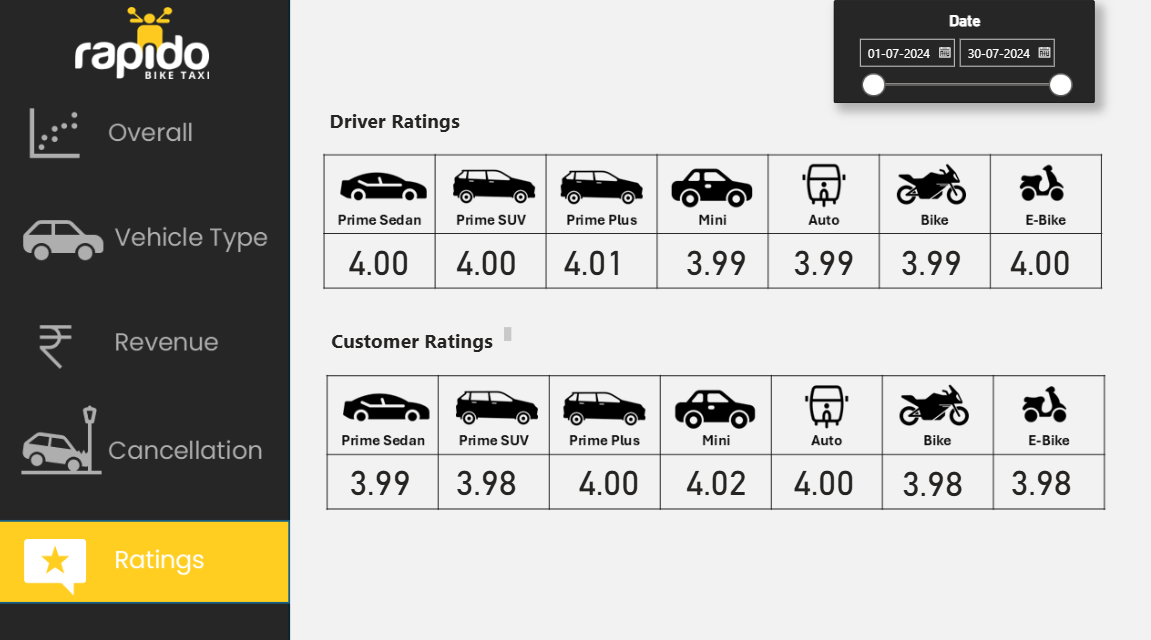

The dashboard page shown, as its layout file describes it:
{"tool":"powerbi","page":{"name":"Ratings","canvas":[1280,720],"ordinal":4},"visuals":[{"type":"actionButton","box":[0,218.9,326.1,97.1],"z":0},{"type":"actionButton","box":[0,335,326.1,97.1],"z":1000},{"type":"actionButton","box":[0,450,326.1,97.1],"z":2000},{"type":"actionButton","box":[0,575.1,326.1,97.1],"z":3000},{"type":"actionButton","box":[0,109.4,326.1,97.1],"z":4000},{"type":"card","fields":{"Values":["Avg(July.Driver_Ratings)"]},"box":[362.6,267.8,117.7,56.4],"z":5000},{"type":"card","fields":{"Values":["Avg(July.Driver_Ratings)"]},"box":[480.4,268,118.3,55.6],"z":6000},{"type":"card","fields":{"Values":["Avg(July.Driver_Ratings)"]},"box":[598.7,268,118.3,55.6],"z":7000},{"type":"card","fields":{"Values":["Avg(July.Driver_Ratings)"]},"box":[732.7,268,118.3,55.6],"z":8000},{"type":"card","fields":{"Values":["Avg(July.Driver_Ratings)"]},"box":[851,268,118.3,55.6],"z":9000},{"type":"card","fields":{"Values":["Avg(July.Driver_Ratings)"]},"box":[969.3,268,118.3,55.6],"z":10000},{"type":"card","fields":{"Values":["Avg(July.Driver_Ratings)"]},"box":[1087.6,268,118.3,55.6],"z":11000},{"type":"card","fields":{"Values":["Avg(July.Customer_Rating)"]},"box":[363.5,508.9,118.3,55.6],"z":12000},{"type":"card","fields":{"Values":["Avg(July.Customer_Rating)"]},"box":[480.4,508.9,118.3,55.6],"z":13000},{"type":"card","fields":{"Values":["Avg(July.Customer_Rating)"]},"box":[614.3,508.9,118.3,55.6],"z":14000},{"type":"card","fields":{"Values":["Avg(July.Customer_Rating)"]},"box":[732.7,508.9,118.3,55.6],"z":15000},{"type":"card","fields":{"Values":["Avg(July.Customer_Rating)"]},"box":[851,508.9,118.3,55.6],"z":16000},{"type":"card","fields":{"Values":["Avg(July.Customer_Rating)"]},"box":[970.7,510.3,118.3,55.6],"z":17000},{"type":"card","fields":{"Values":["Avg(July.Customer_Rating)"]},"box":[1089,508.9,118.3,55.6],"z":18000},{"type":"textbox","box":[362,119.7,176.7,38.5],"z":19000},{"type":"textbox","box":[363.5,360.6,208.1,38.5],"z":20000},{"type":"slicer","title":"Date","fields":{"Values":["July.Date"]},"box":[920.8,7.1,286.5,112.6],"z":20001}]}

Visuals, with their boxes on the page's 1280x720 design canvas (x1, y1, x2, y2). These are canvas units, not pixel positions in the 1151x640 screenshot, which may show the page scaled, cropped or inside an application window:
actionButton: box=[0, 219, 326, 316]
actionButton: box=[0, 335, 326, 432]
actionButton: box=[0, 450, 326, 547]
actionButton: box=[0, 575, 326, 672]
actionButton: box=[0, 109, 326, 206]
card - Avg(July.Driver_Ratings): box=[363, 268, 480, 324]
card - Avg(July.Driver_Ratings): box=[480, 268, 599, 324]
card - Avg(July.Driver_Ratings): box=[599, 268, 717, 324]
card - Avg(July.Driver_Ratings): box=[733, 268, 851, 324]
card - Avg(July.Driver_Ratings): box=[851, 268, 969, 324]
card - Avg(July.Driver_Ratings): box=[969, 268, 1088, 324]
card - Avg(July.Driver_Ratings): box=[1088, 268, 1206, 324]
card - Avg(July.Customer_Rating): box=[364, 509, 482, 564]
card - Avg(July.Customer_Rating): box=[480, 509, 599, 564]
card - Avg(July.Customer_Rating): box=[614, 509, 733, 564]
card - Avg(July.Customer_Rating): box=[733, 509, 851, 564]
card - Avg(July.Customer_Rating): box=[851, 509, 969, 564]
card - Avg(July.Customer_Rating): box=[971, 510, 1089, 566]
card - Avg(July.Customer_Rating): box=[1089, 509, 1207, 564]
textbox: box=[362, 120, 539, 158]
textbox: box=[364, 361, 572, 399]
"Date" slicer: box=[921, 7, 1207, 120]
